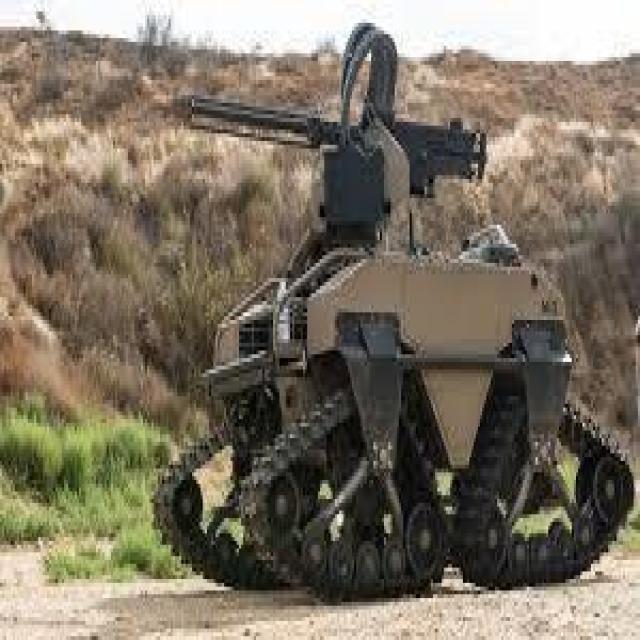Tanks: (137, 40, 576, 604)
